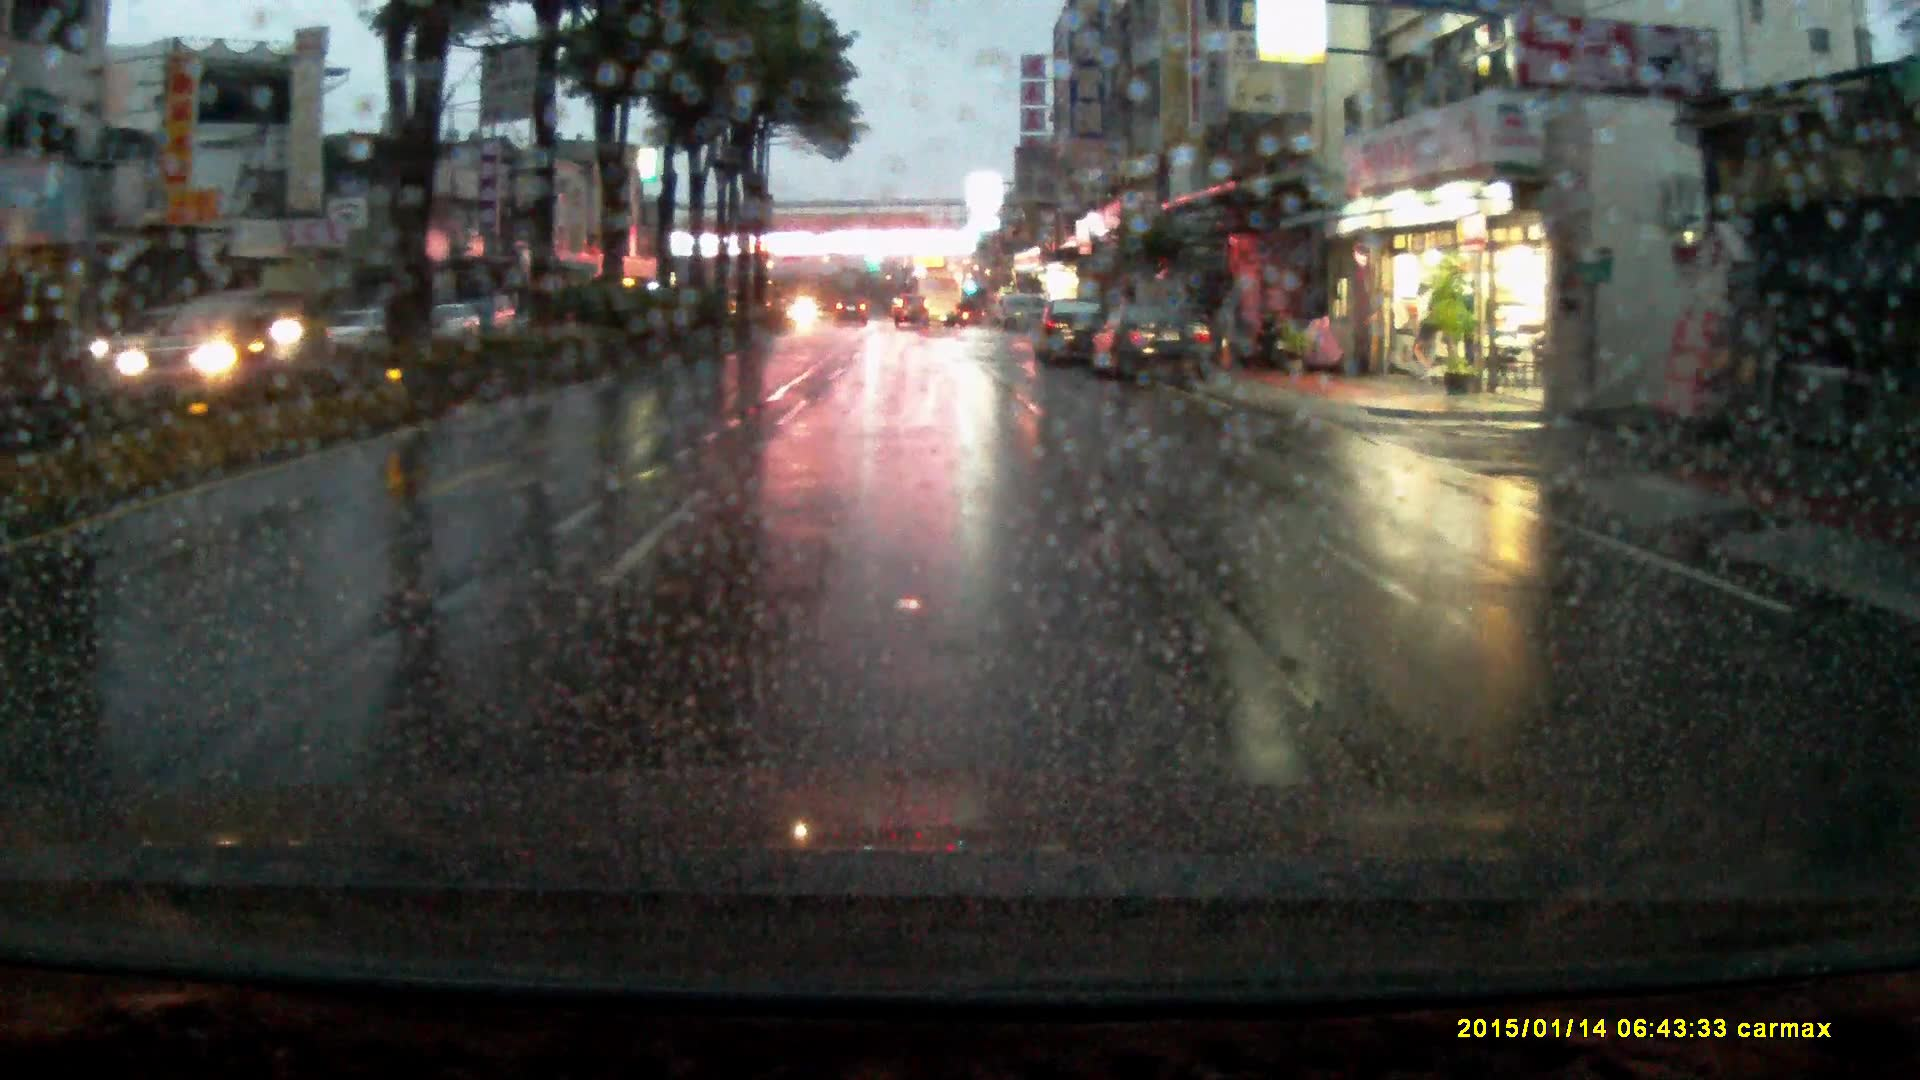rider: (259, 256, 349, 415)
vehicle: (103, 289, 290, 401), (1087, 299, 1215, 389), (1027, 296, 1109, 369), (95, 307, 182, 374), (907, 278, 962, 329), (894, 293, 930, 330), (836, 296, 870, 326)
